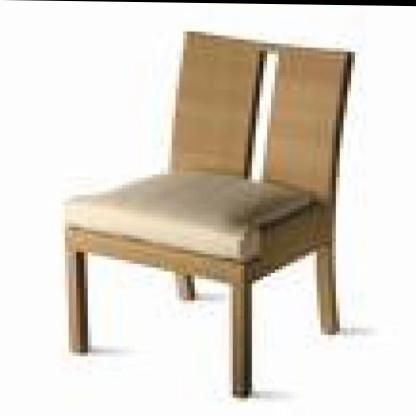Chair: (41, 33, 372, 411)
